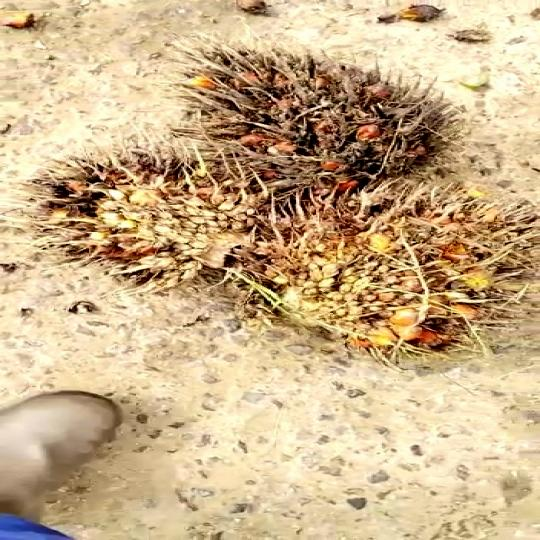terlalu masak: (248, 189, 540, 356), (0, 146, 311, 286), (166, 46, 451, 186)
